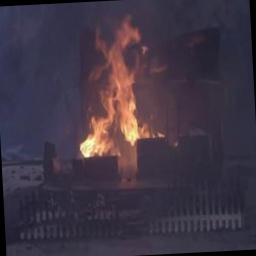fire: (75, 25, 147, 151)
